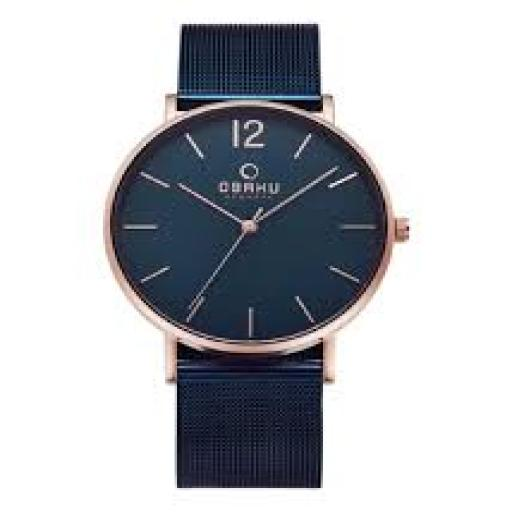KolSaati: (86, 2, 411, 498)
